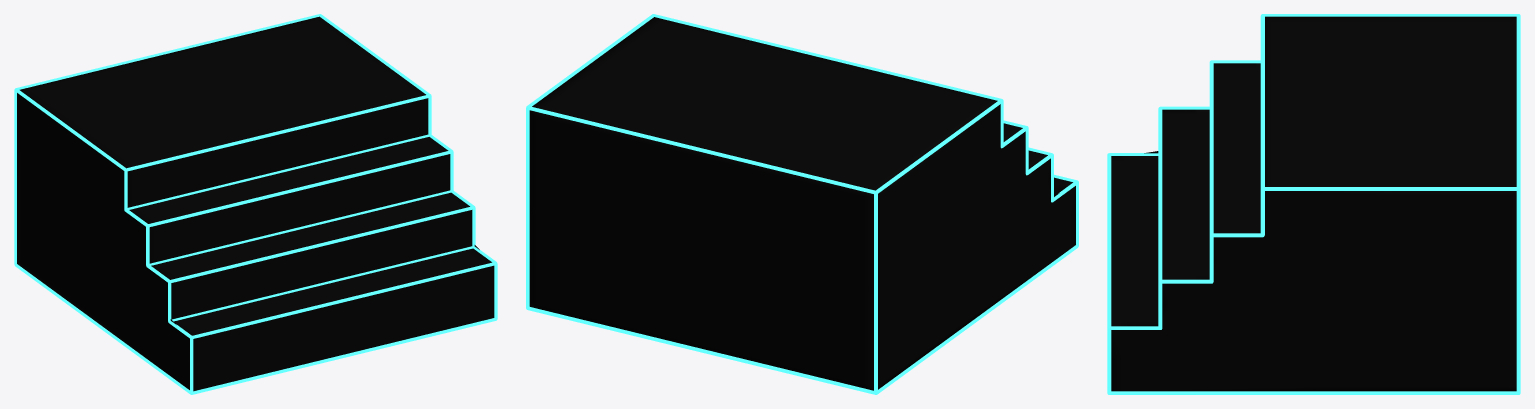
File: stairs.fbx
3 renders of one model, left to right at view 1: azimuth 30°, elevation 25°; view 2: azimuth 150°, elevation 25°; view 3: azimuth 270°, elevation 25°, orthographic. The views are drawn at different scales.
Visible parts, largest first — view 1: Stairs, Stairs_1; view 2: Stairs, Stairs_1; view 3: Stairs, Stairs_1.
Part boxes in pixels (x1,y1,x2,y2): Stairs: [17, 16, 494, 391]; Stairs_1: [14, 14, 497, 394]; Stairs: [529, 17, 1075, 390]; Stairs_1: [526, 14, 1078, 394]; Stairs: [1111, 16, 1516, 391]; Stairs_1: [1107, 14, 1520, 394].
Size of the model in its own units: 202 by 112 by 202.
